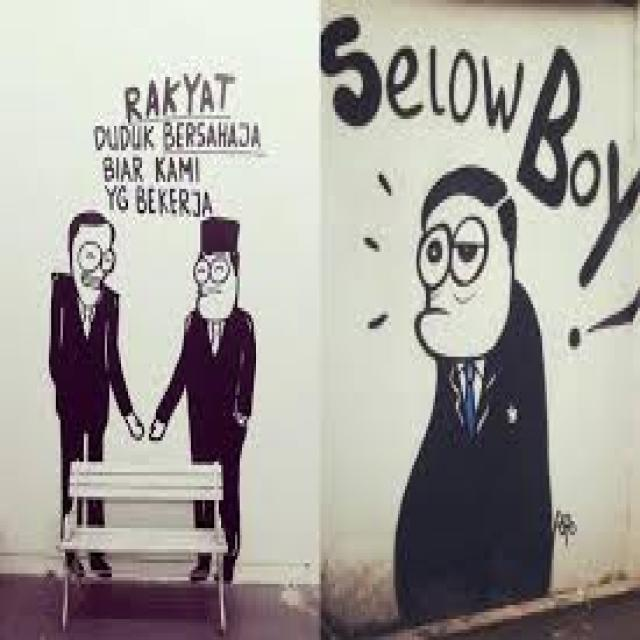-: (321, 11, 640, 620), (45, 70, 262, 590)
